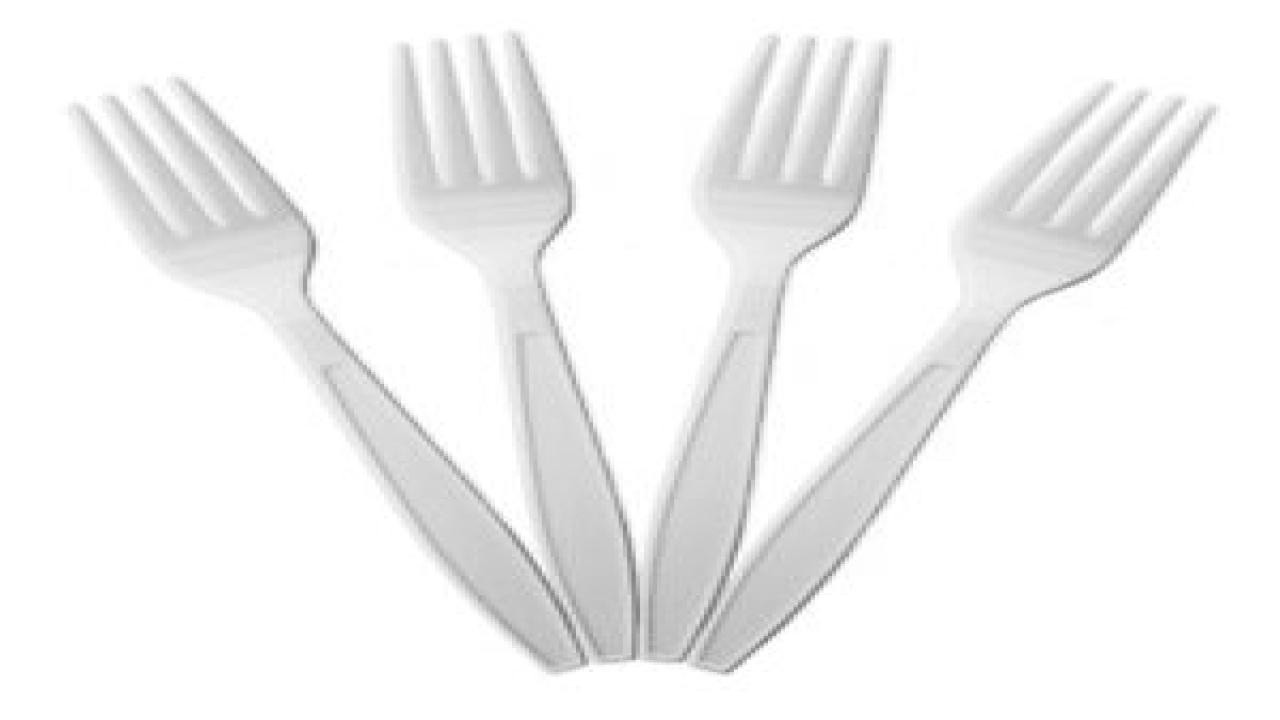fork: (683, 77, 1216, 672), (64, 72, 589, 672), (388, 27, 640, 662), (644, 32, 892, 662)
